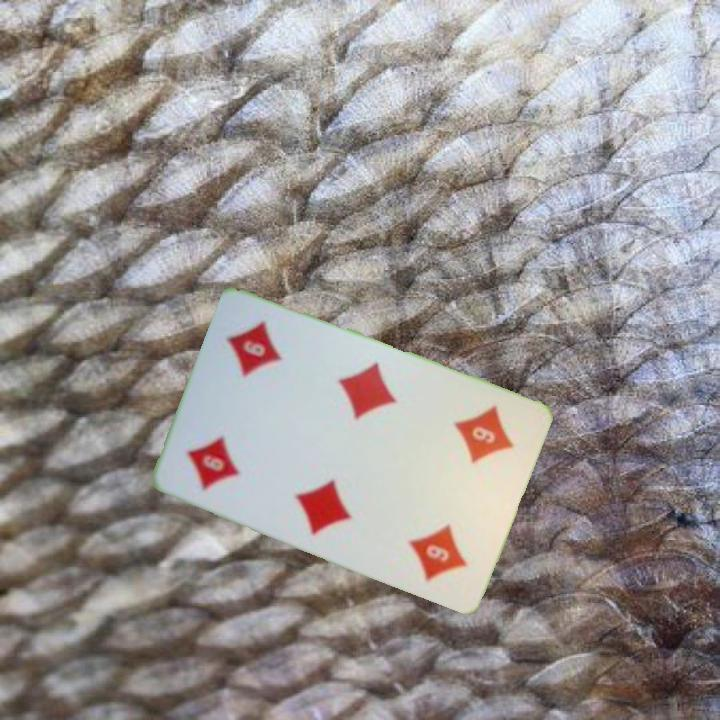d_6.png: (421, 386, 536, 509), (167, 389, 282, 511)
